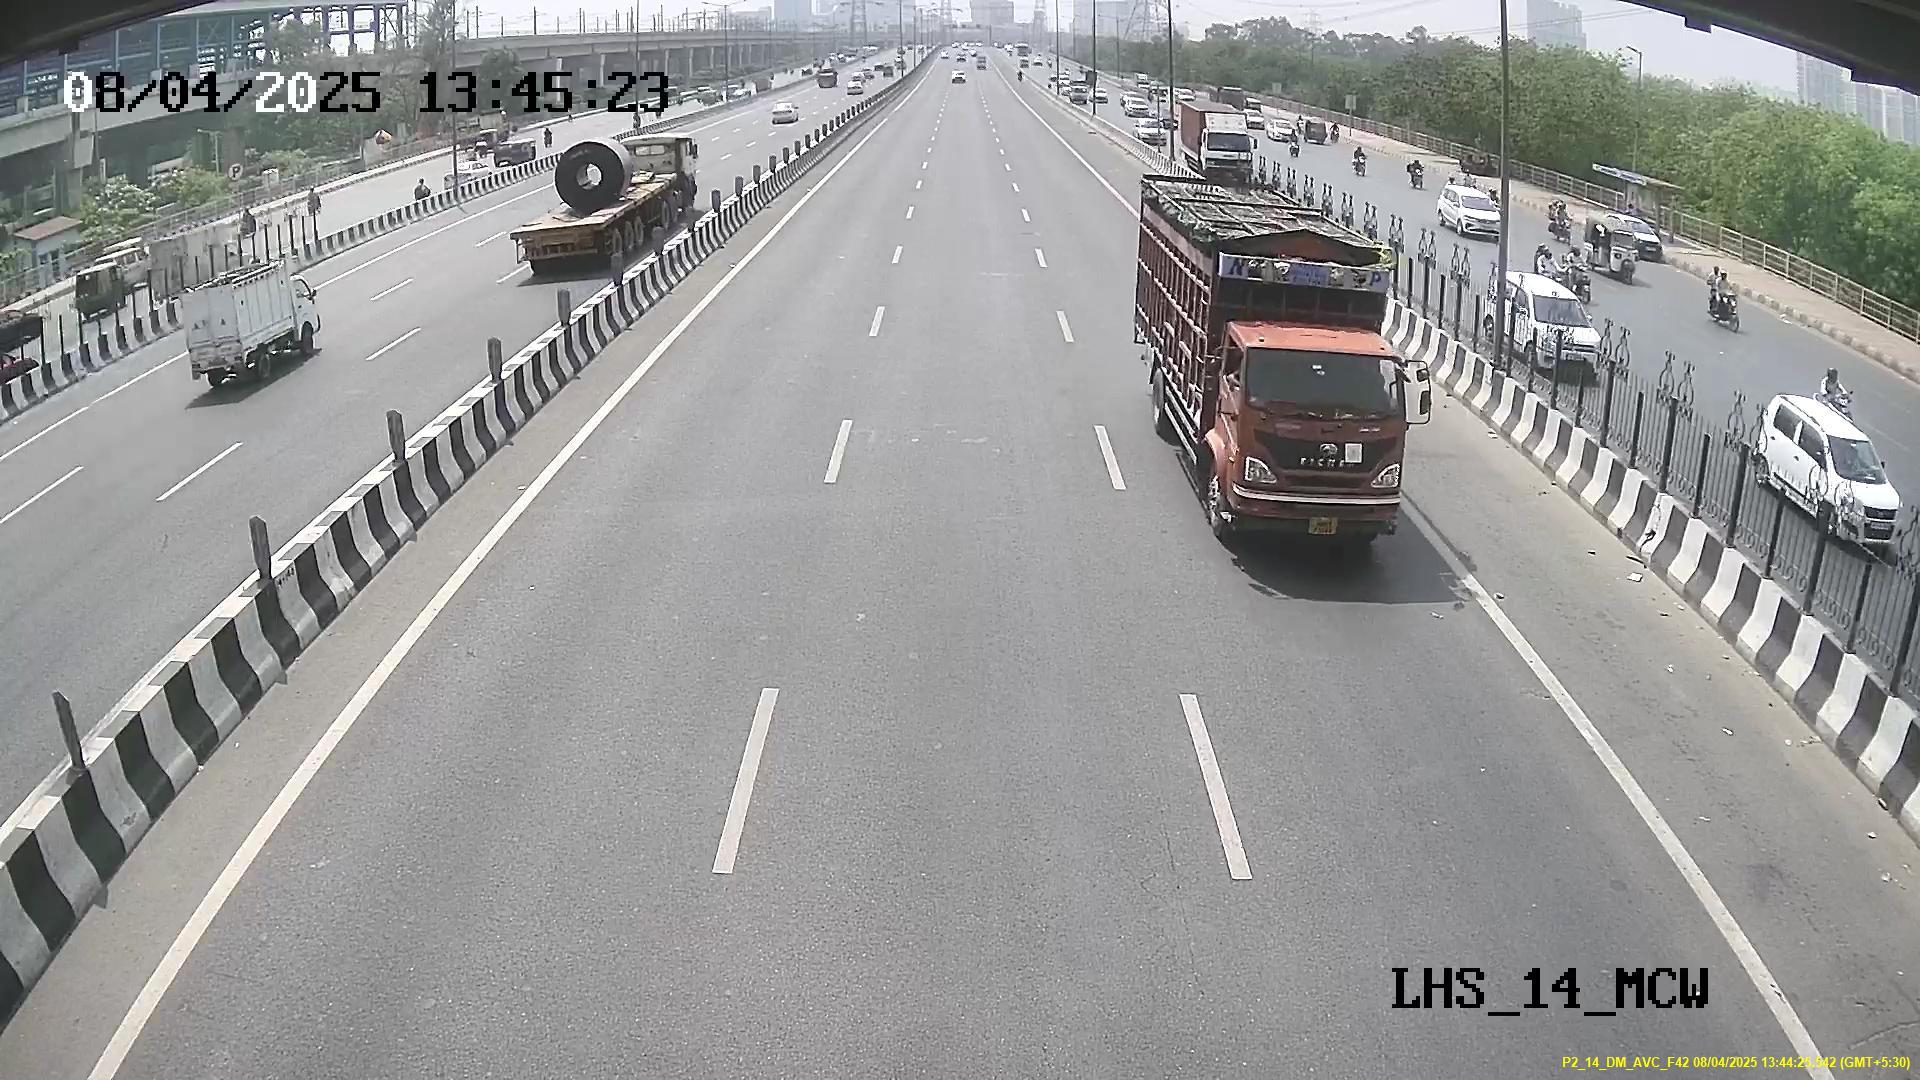lcv: (1215, 320, 1406, 545)
